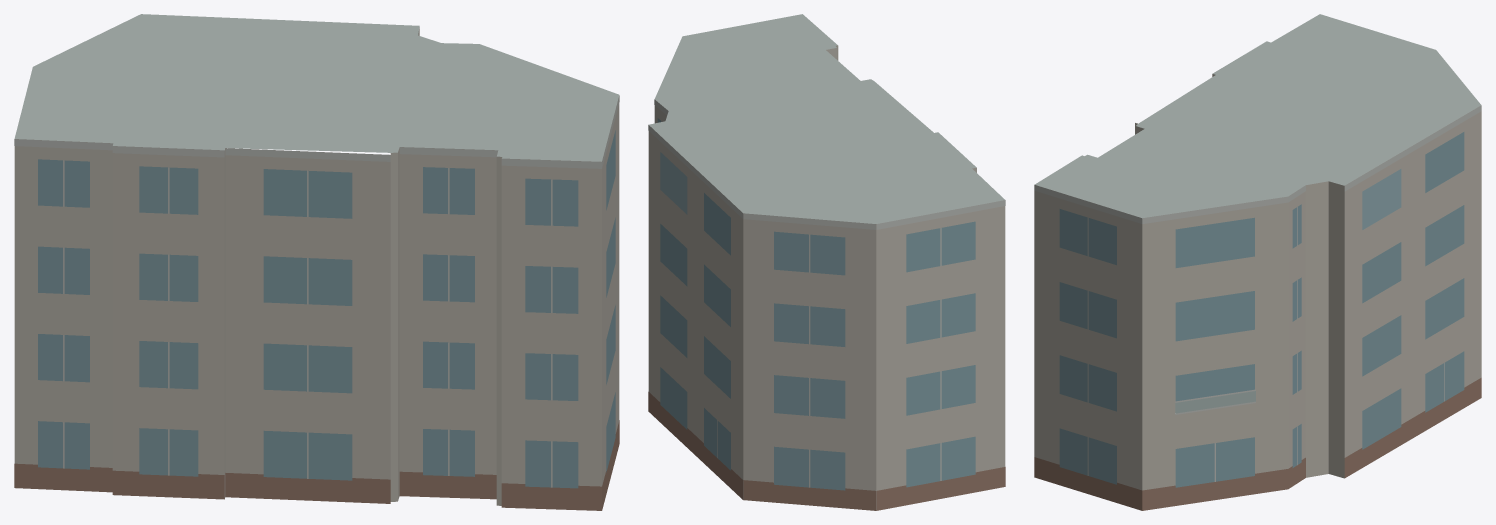
Rendered from survey-upis-32855608.glb.
3 renders of one model, left to right at view 1: azimuth 30°, elevation 25°; view 2: azimuth 150°, elevation 25°; view 3: azimuth 270°, elevation 25°, orthographic. The views are drawn at different scales.
Parts seen in each view (by area): view 1: survey-upis-32855608.tmp; view 2: survey-upis-32855608.tmp; view 3: survey-upis-32855608.tmp.
Part boxes in pixels (left/top/right/bottom): survey-upis-32855608.tmp: left=14, top=14, right=619, bottom=510; survey-upis-32855608.tmp: left=648, top=14, right=1005, bottom=510; survey-upis-32855608.tmp: left=1034, top=14, right=1481, bottom=510.
Size of the model in its own units: 17.86 by 11.93 by 16.53.
